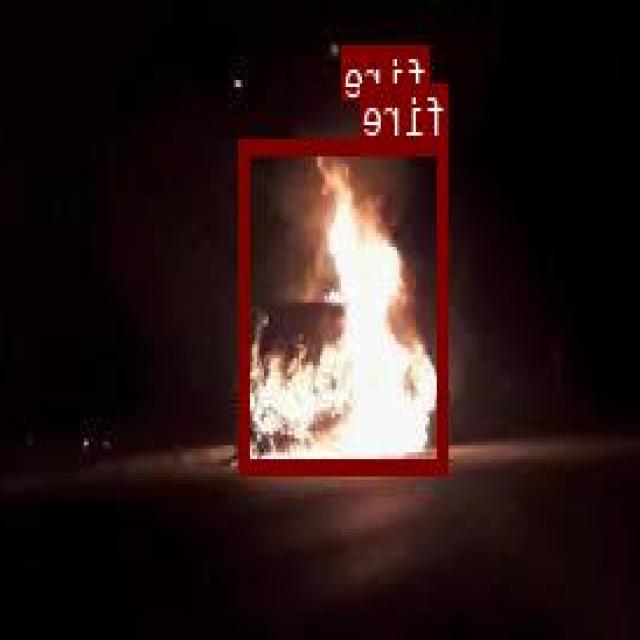fire: (242, 137, 450, 471), (362, 44, 430, 110)
